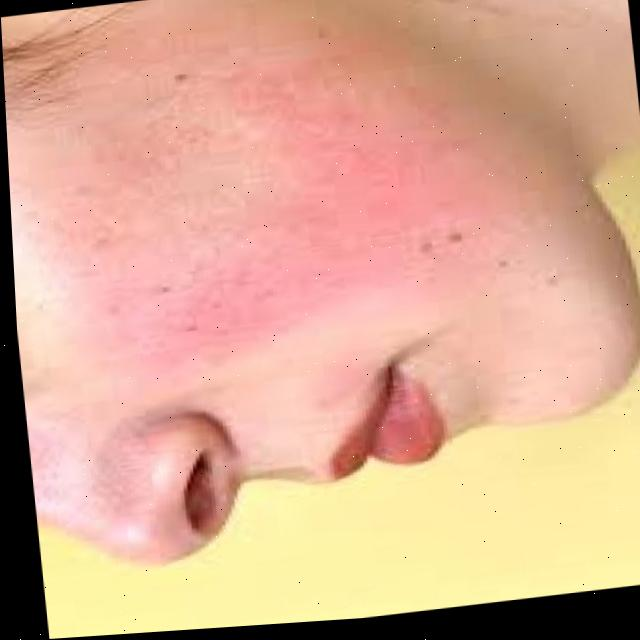Rosacea: (111, 217, 290, 330)
